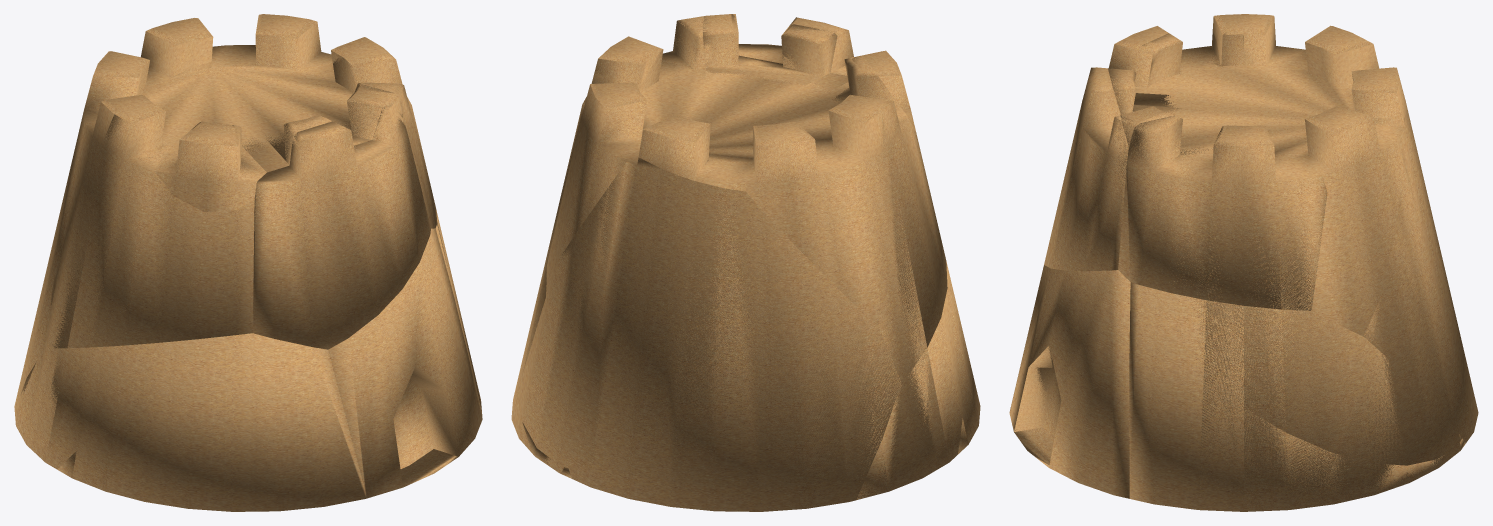
Rendered from Sand_Bucket.fbx.
3 views of the same model, side by side, from view 1: azimuth 30°, elevation 25°; view 2: azimuth 150°, elevation 25°; view 3: azimuth 270°, elevation 25° (orthographic).
Visible parts, largest first — view 1: SandBucketRuin01, cylinder.001, SandBucketRuin02, SandBucketRuin04; view 2: cylinder.001, SandBucketRuin02, SandBucketRuin01, SandBucketRuin04; view 3: SandBucketRuin01, cylinder.001, SandBucketRuin02, SandBucketRuin04.
Part boxes in pixels (x1,y1,x2,y2): SandBucketRuin01: [45, 53, 482, 511]; cylinder.001: [14, 14, 447, 461]; SandBucketRuin02: [19, 71, 423, 450]; SandBucketRuin04: [57, 449, 458, 491]; cylinder.001: [511, 14, 939, 511]; SandBucketRuin02: [522, 58, 958, 507]; SandBucketRuin01: [594, 14, 980, 456]; SandBucketRuin04: [522, 418, 968, 478]; SandBucketRuin01: [1009, 33, 1405, 511]; cylinder.001: [1014, 14, 1478, 509]; SandBucketRuin02: [1036, 15, 1461, 511]; SandBucketRuin04: [1015, 355, 1465, 508].
Bounding box in the file's own units: 28466 × 22838 × 28466.
